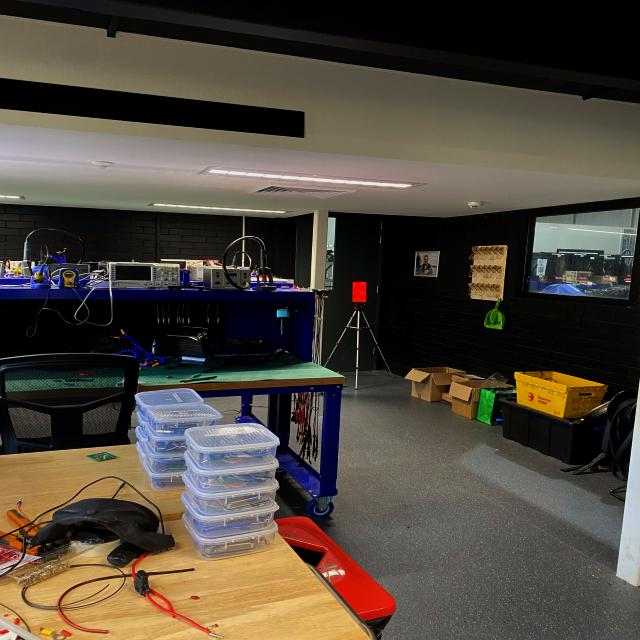matrix: (347, 276, 372, 306)
